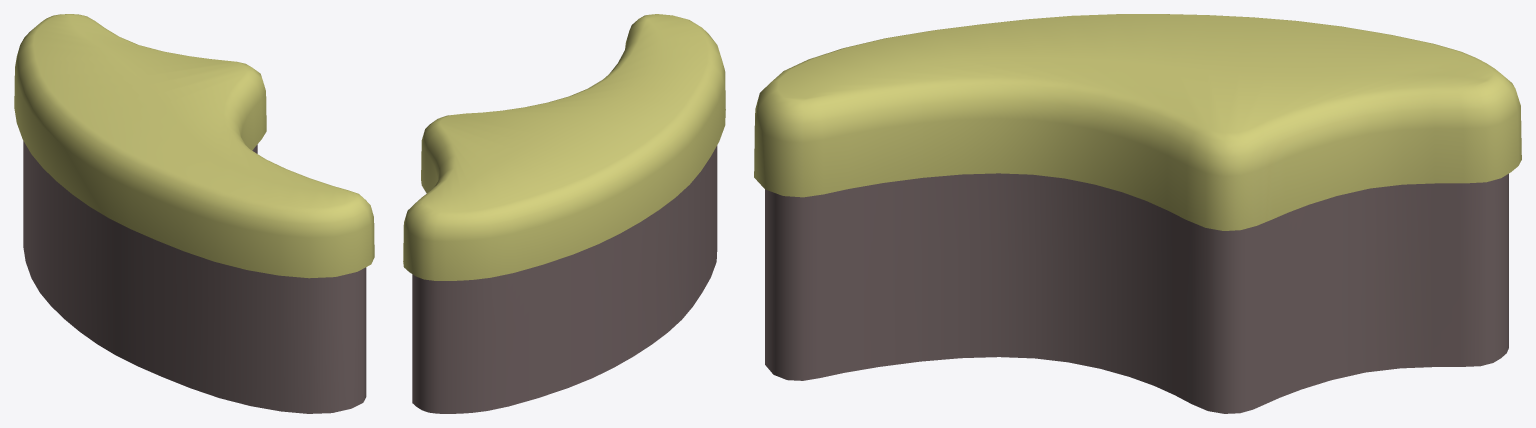
File: Mountains-06.fbx
3 renders of one model, left to right at view 1: azimuth 30°, elevation 25°; view 2: azimuth 150°, elevation 25°; view 3: azimuth 270°, elevation 25°, orthographic. The views are drawn at different scales.
Visible parts, largest first — view 1: Mountains-06; view 2: Mountains-06; view 3: Mountains-06.
Boxes of the visible parts, bbox=[...] form: Mountains-06: bbox=[14, 14, 374, 413]; Mountains-06: bbox=[403, 14, 725, 413]; Mountains-06: bbox=[754, 14, 1521, 413].
Size of the model in its own units: 29901 by 26901 by 68153.
